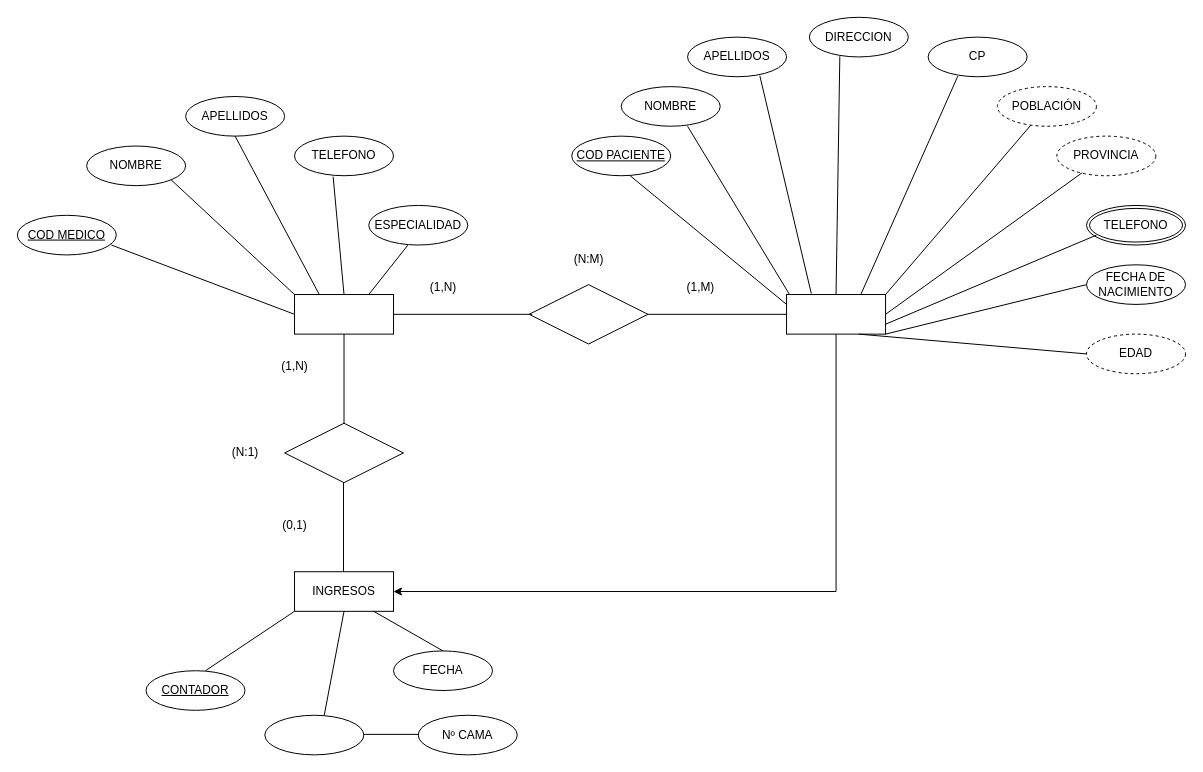
Image size: 1203x772. Some labels were removed from this diagram. Here are the shapes that lost their labels. From the top down, the box of each, then its label:
(294, 294, 394, 334): MEDICOS
(528, 284, 648, 344): ATIENDEN
(786, 294, 886, 334): PACIENTES
(284, 422, 403, 483): REALIZAN
(264, 714, 364, 755): Nº HABITACIÓN
